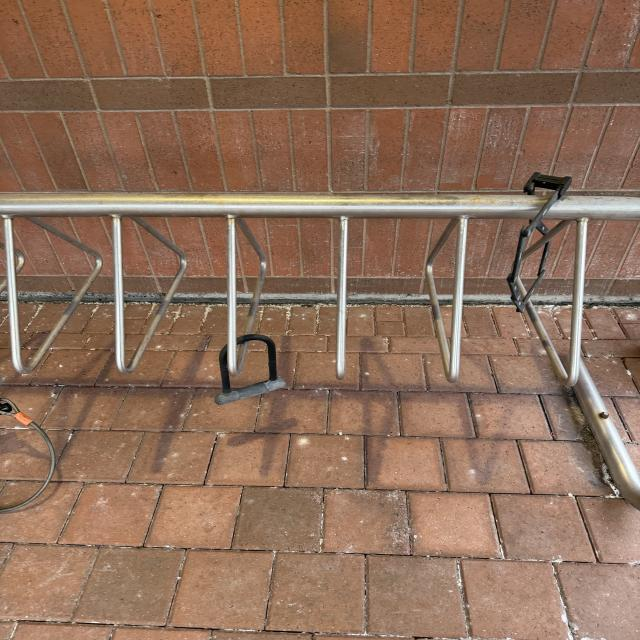Bicycle Rack: (1, 183, 640, 505)
